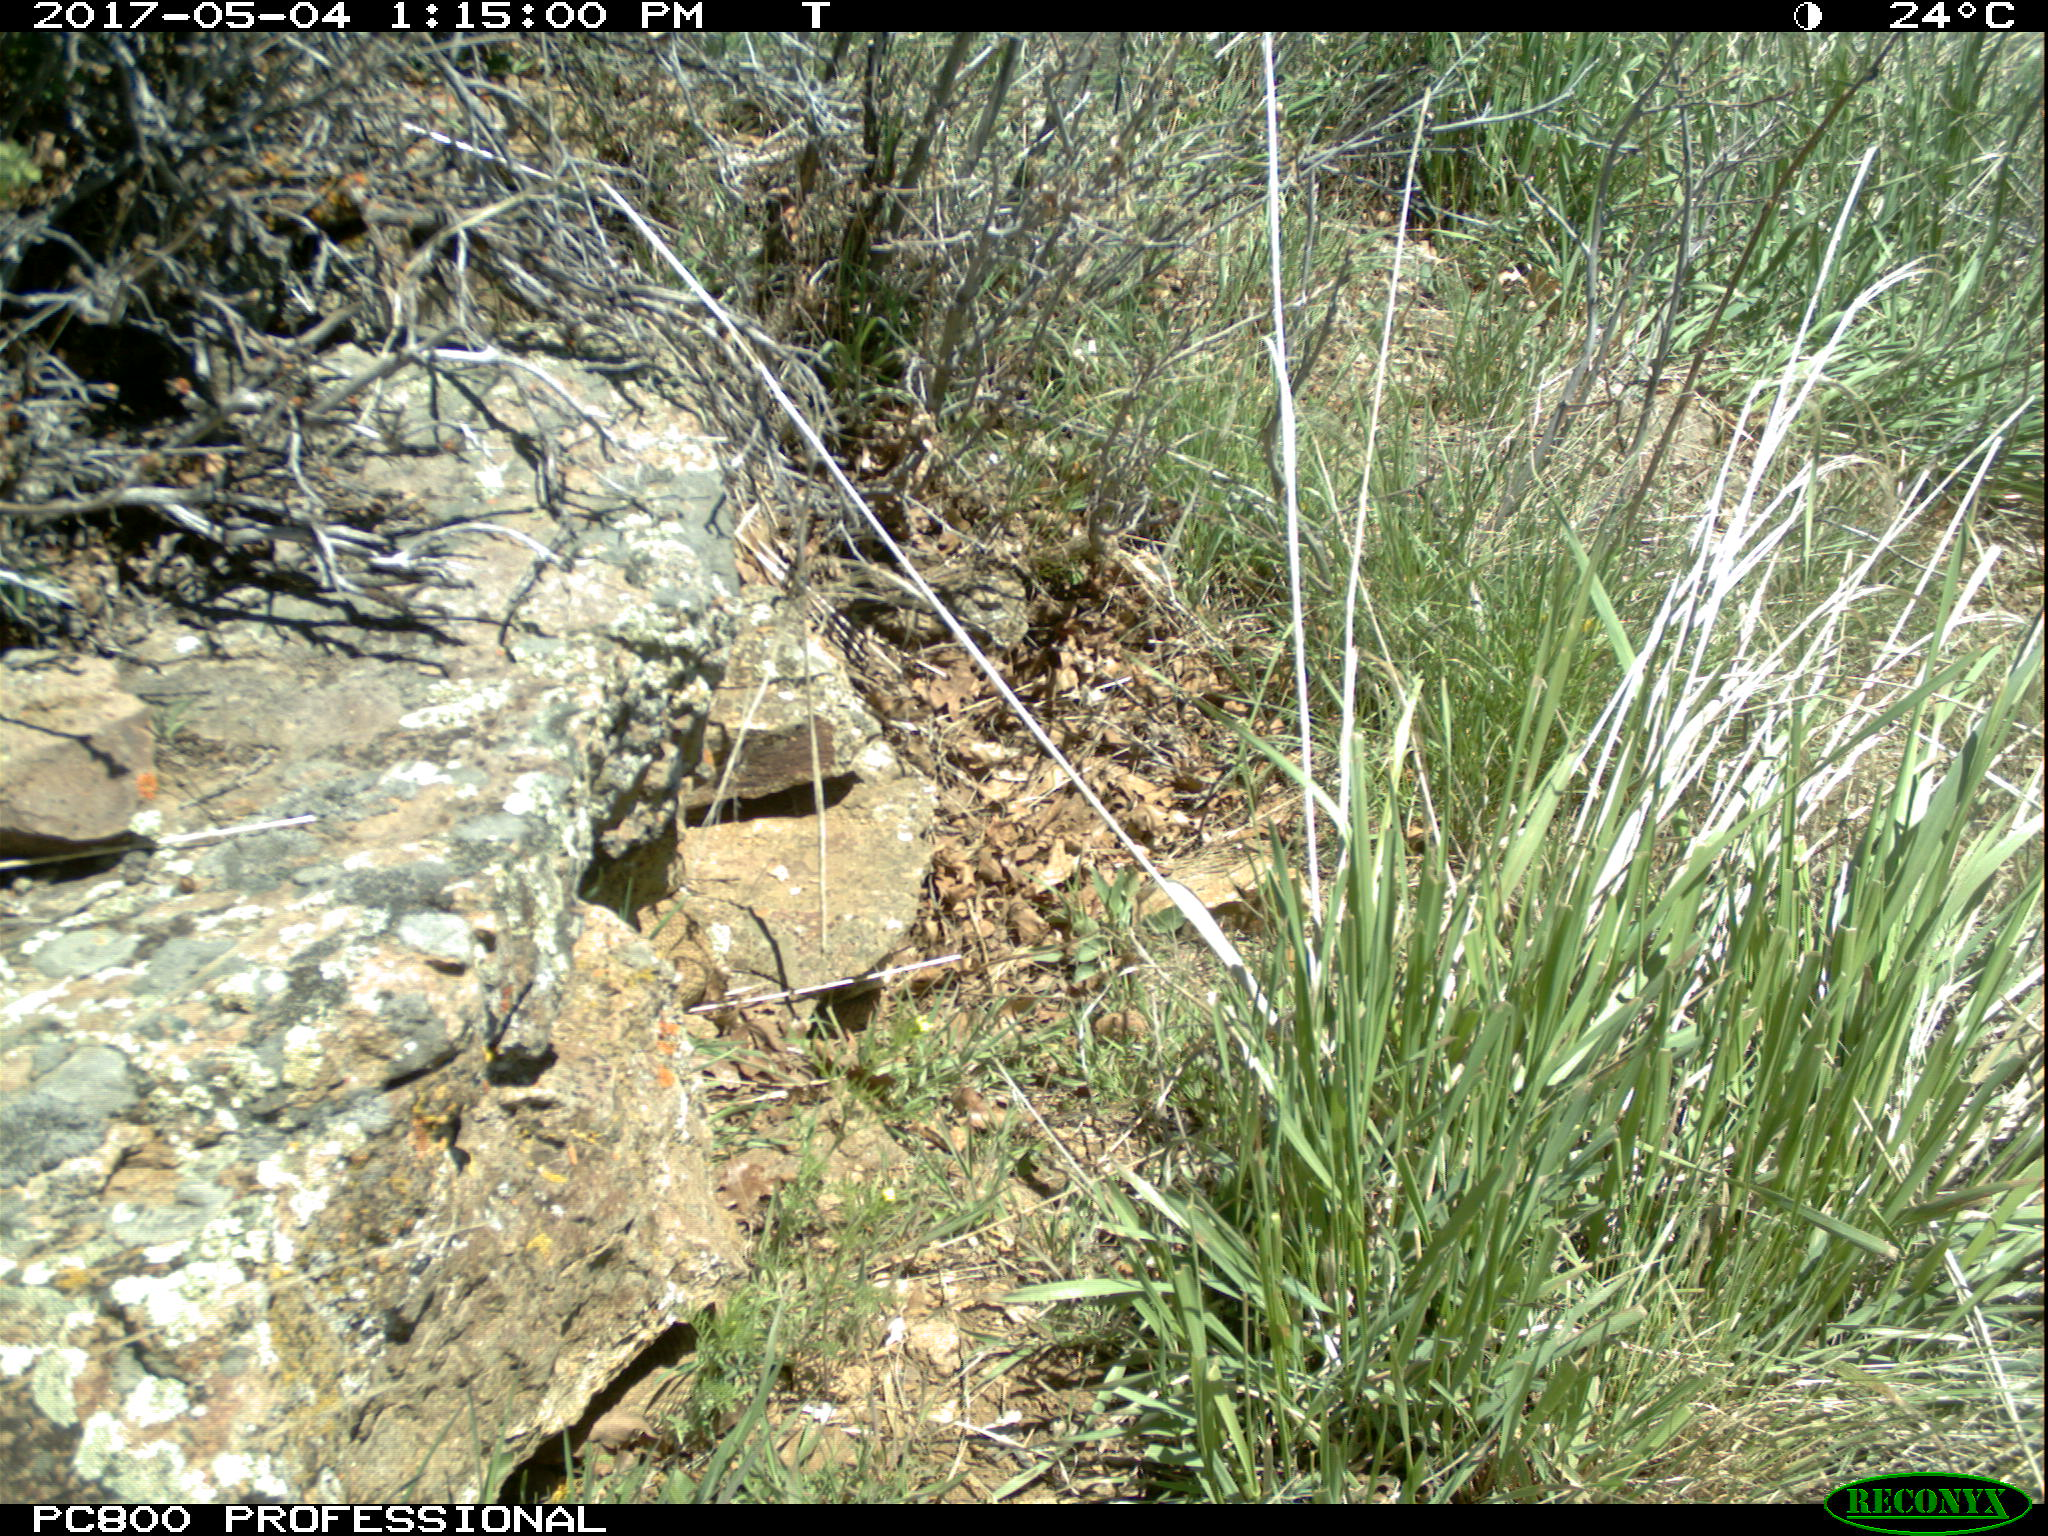snake: (624, 897, 734, 1008)
